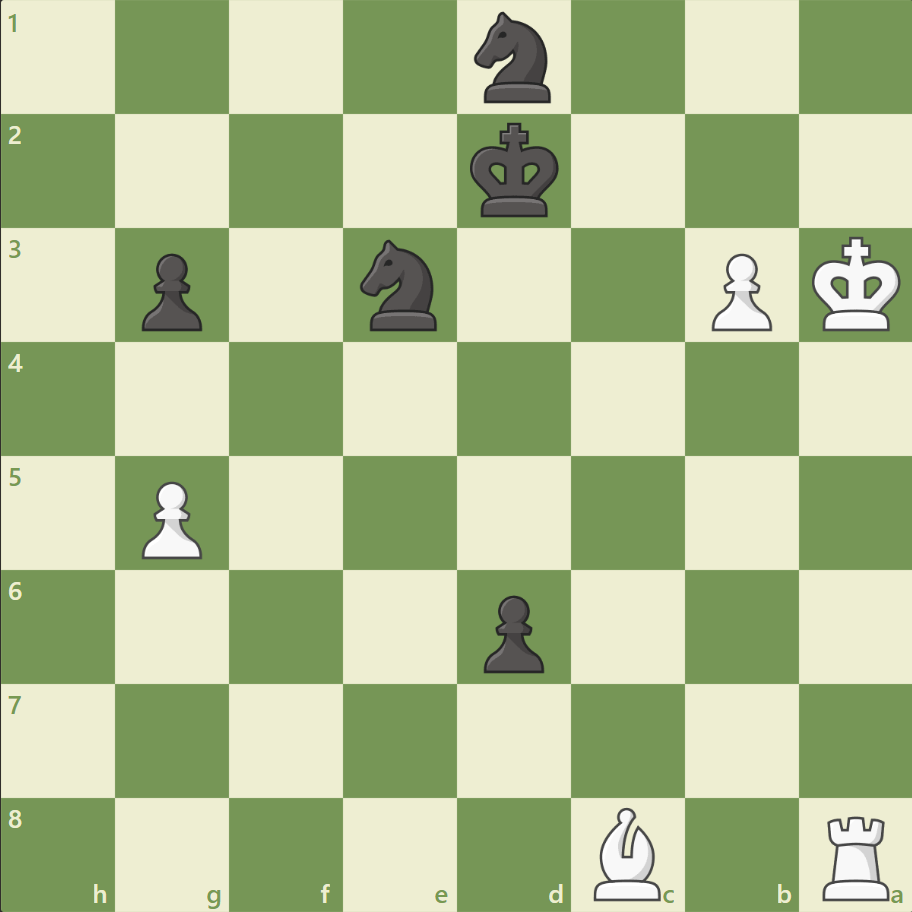B: (585, 801, 669, 904)
K: (806, 231, 906, 339)
P: (133, 473, 208, 564), (701, 246, 776, 337)
R: (814, 806, 897, 904)
k: (465, 117, 565, 225)
n: (351, 234, 449, 337), (465, 7, 562, 110)
p: (474, 586, 549, 677), (133, 246, 208, 337)
